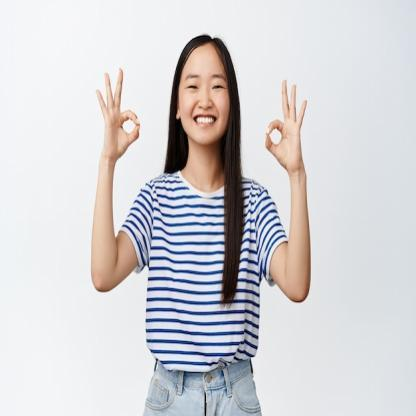ok: (94, 64, 143, 162), (262, 76, 310, 172)
